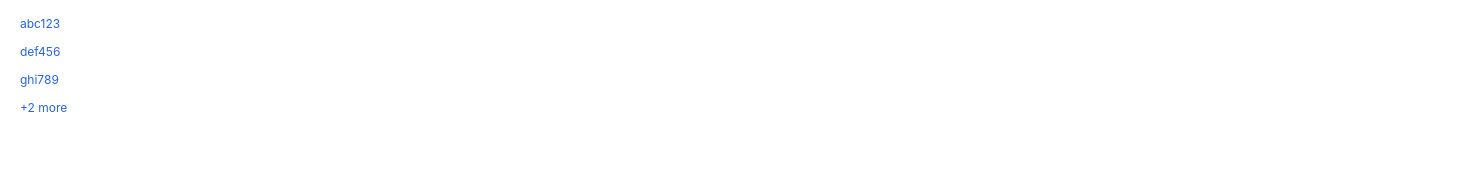
it: CommentList › collapses back to limited view when "Show less" is clicked
// Expand first
Click the button "+2 more" at [51, 108], box [12,96,1452,120]
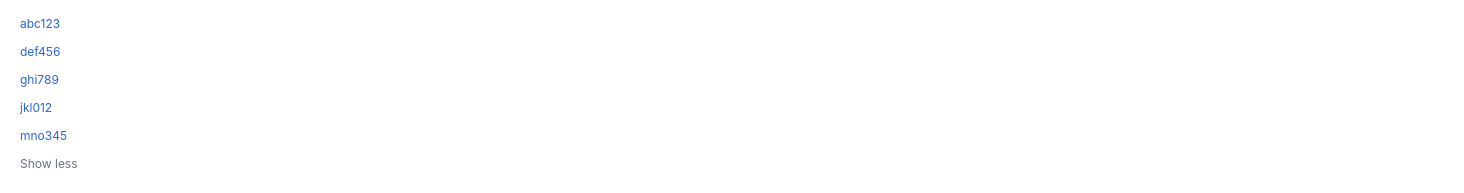
Result: the button "jkl012" is shown at [12,96,1452,120]
Result: the button "mno345" is shown at [12,124,1452,148]
// Click "Show less"
Click the button "Show less" at [49, 164], box [12,152,1452,176]
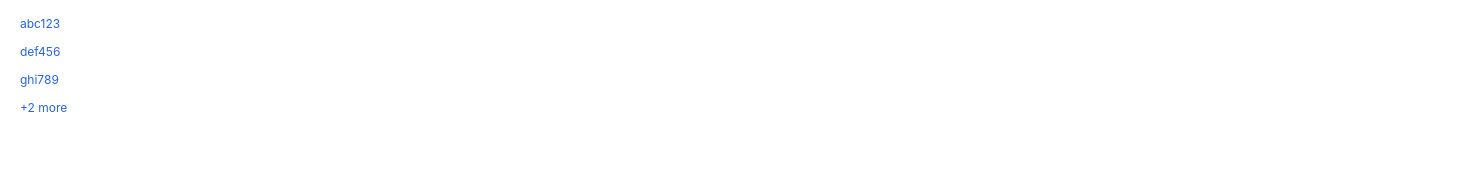
Result: the button "jkl012" is gone
Result: the button "mno345" is gone
Result: the button "+2 more" is shown at [12,96,1452,120]
